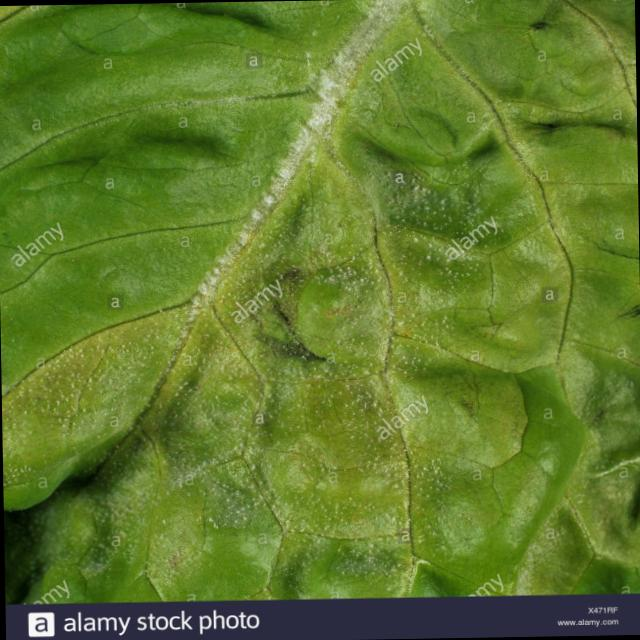Downy_Mildew: (203, 470, 265, 520), (317, 63, 346, 113), (273, 156, 301, 184)
